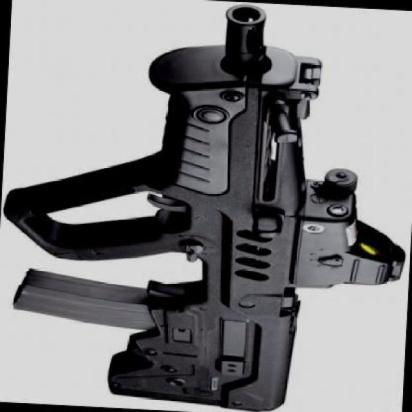Gun: (14, 0, 392, 409)
